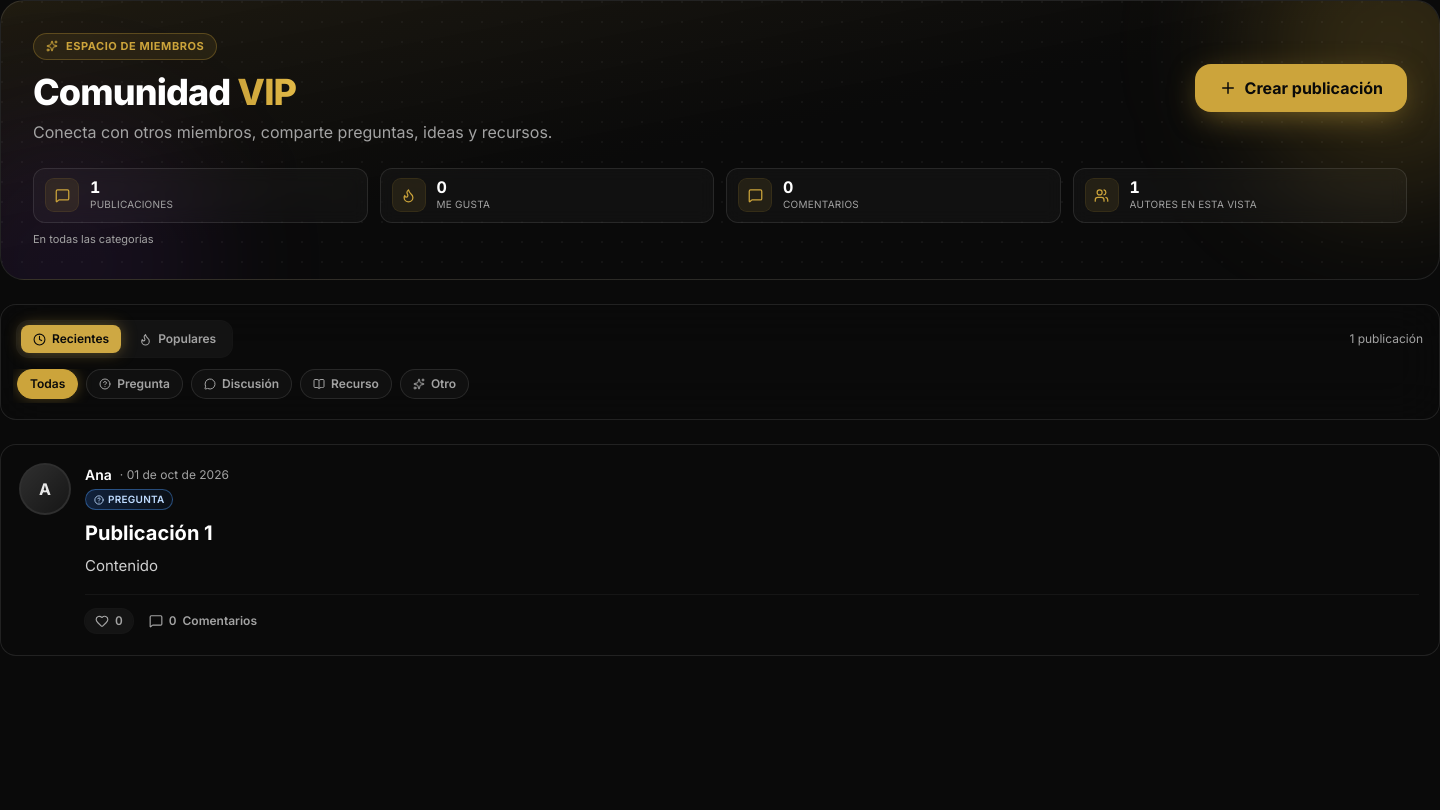
CommunityFeed › vacío por filtro ofrece volver a todas
Check: the button "Publicación 1" is shown, box [85,520,213,548]
Click the button "Recurso" at (346, 384), box [300,369,392,399]
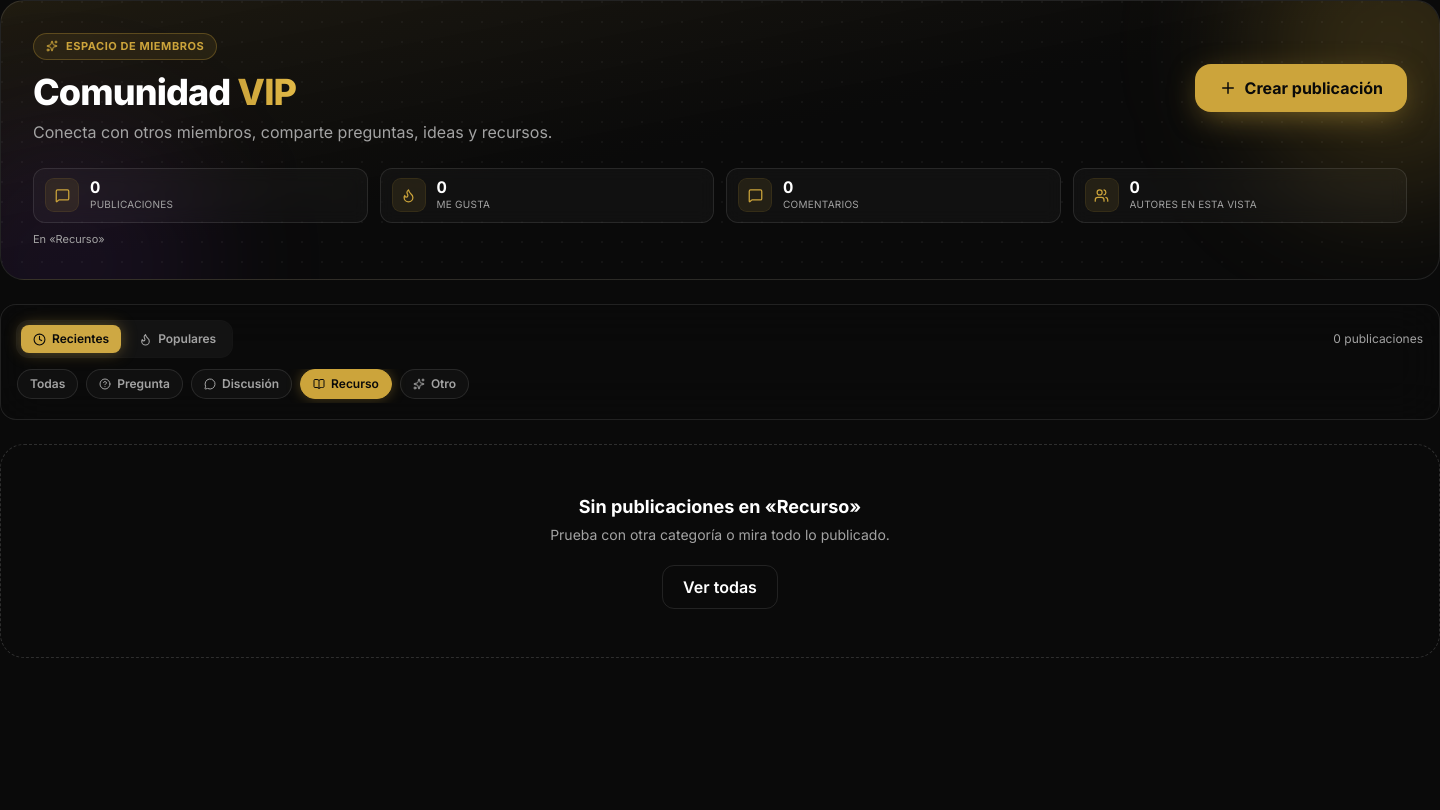
Check: the heading "Sin publicaciones en «Recurso»" is shown, box [579,496,861,517]
Click the button "Ver todas" at (720, 587), box [662,565,778,609]
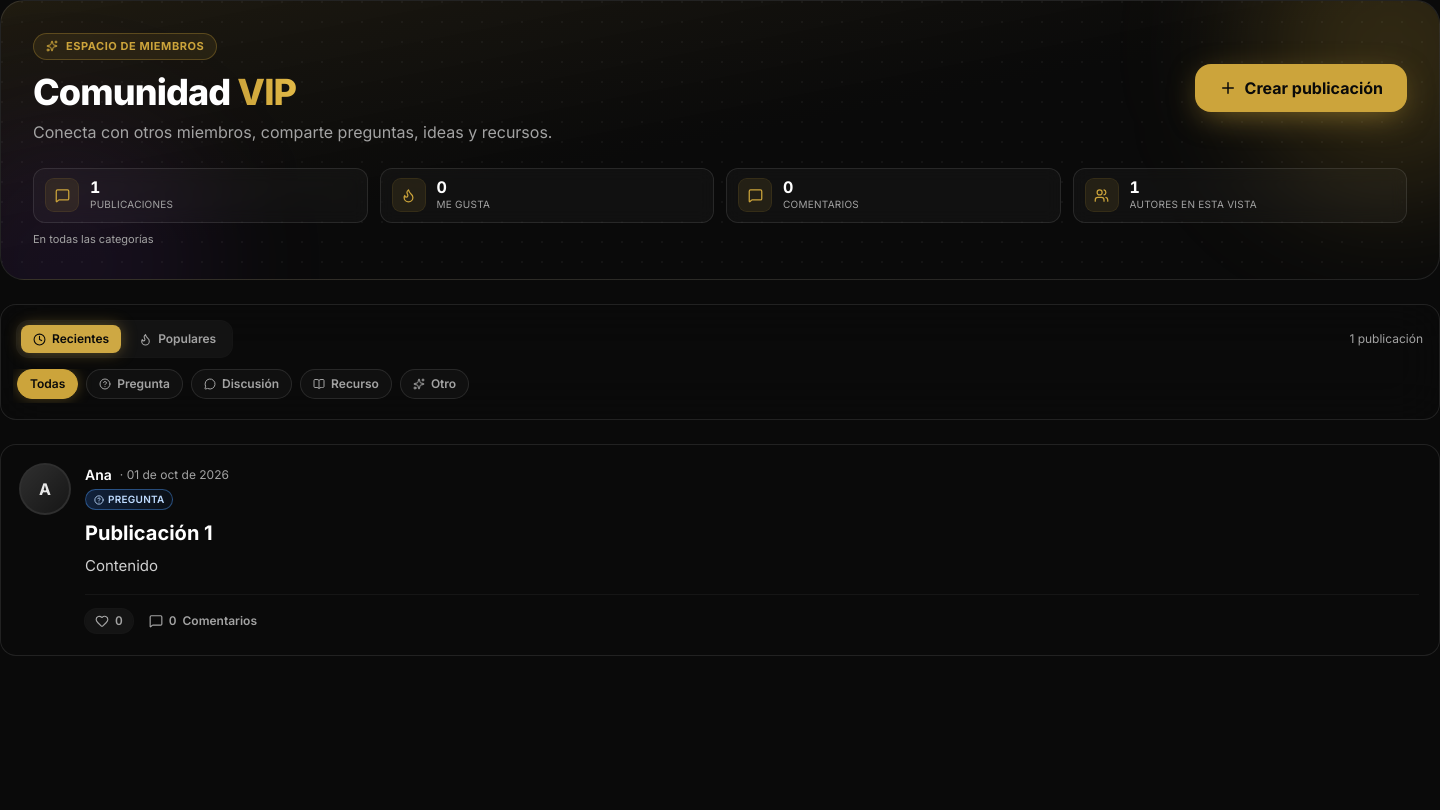
Check: the button "Publicación 1" is shown, box [85,520,213,548]
